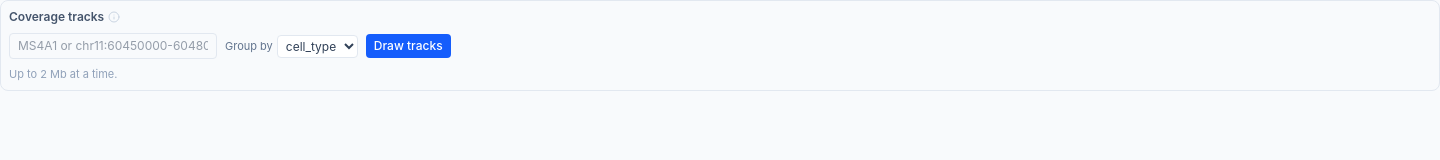
it: AtacCoverage › shows the backend's sentence for a miss
In the field named "Gene or region": (113, 46) [9, 33, 217, 59], type "chrQ:1-100"
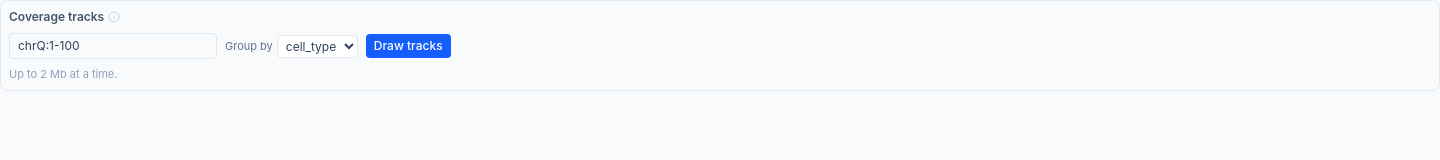
Click the button "Draw tracks": (408, 46) [366, 34, 451, 58]
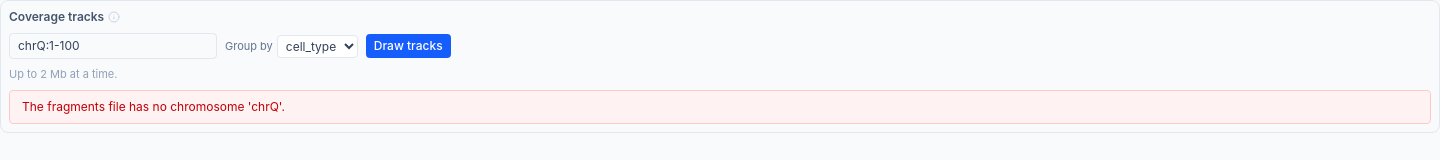
Expected: the text "The fragments file has no chromosome 'chrQ'." is shown, [9, 90, 1431, 124]
